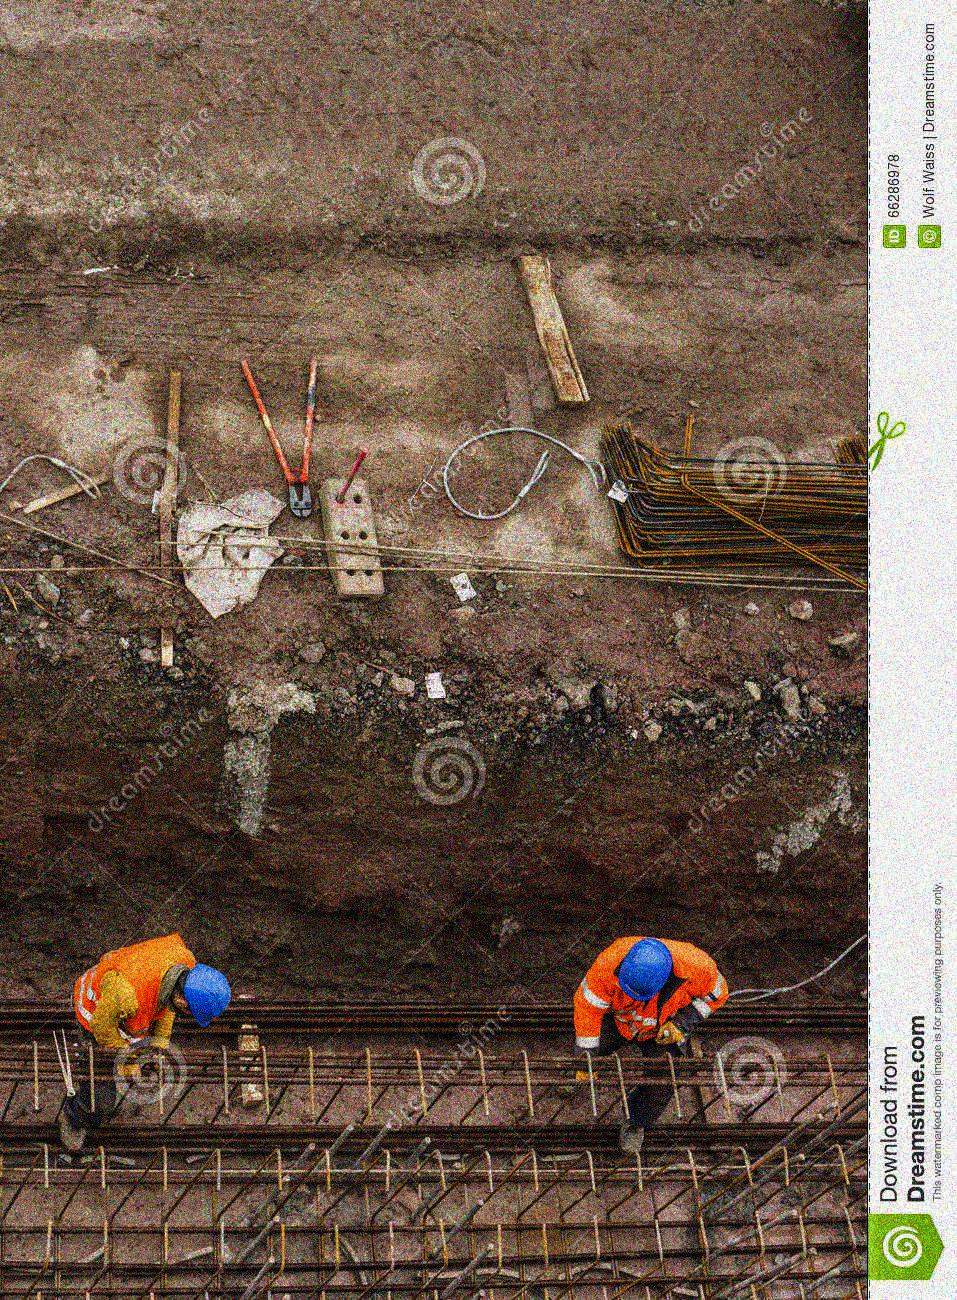helmet: (174, 962, 237, 1030), (615, 938, 674, 1002)
